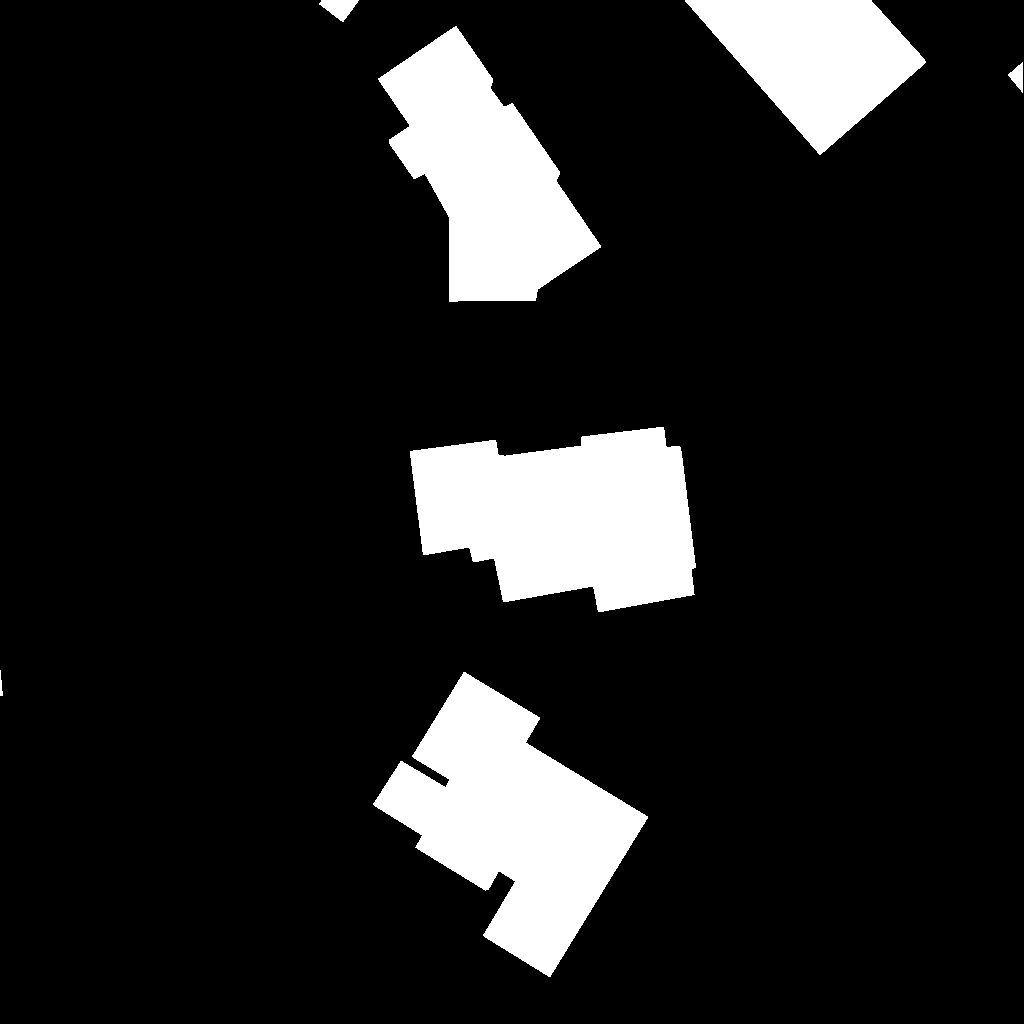building: (373, 672, 649, 978), (378, 26, 602, 302), (410, 427, 696, 613), (684, 0, 927, 156), (319, 0, 360, 23), (1008, 62, 1024, 94), (0, 665, 4, 697)
